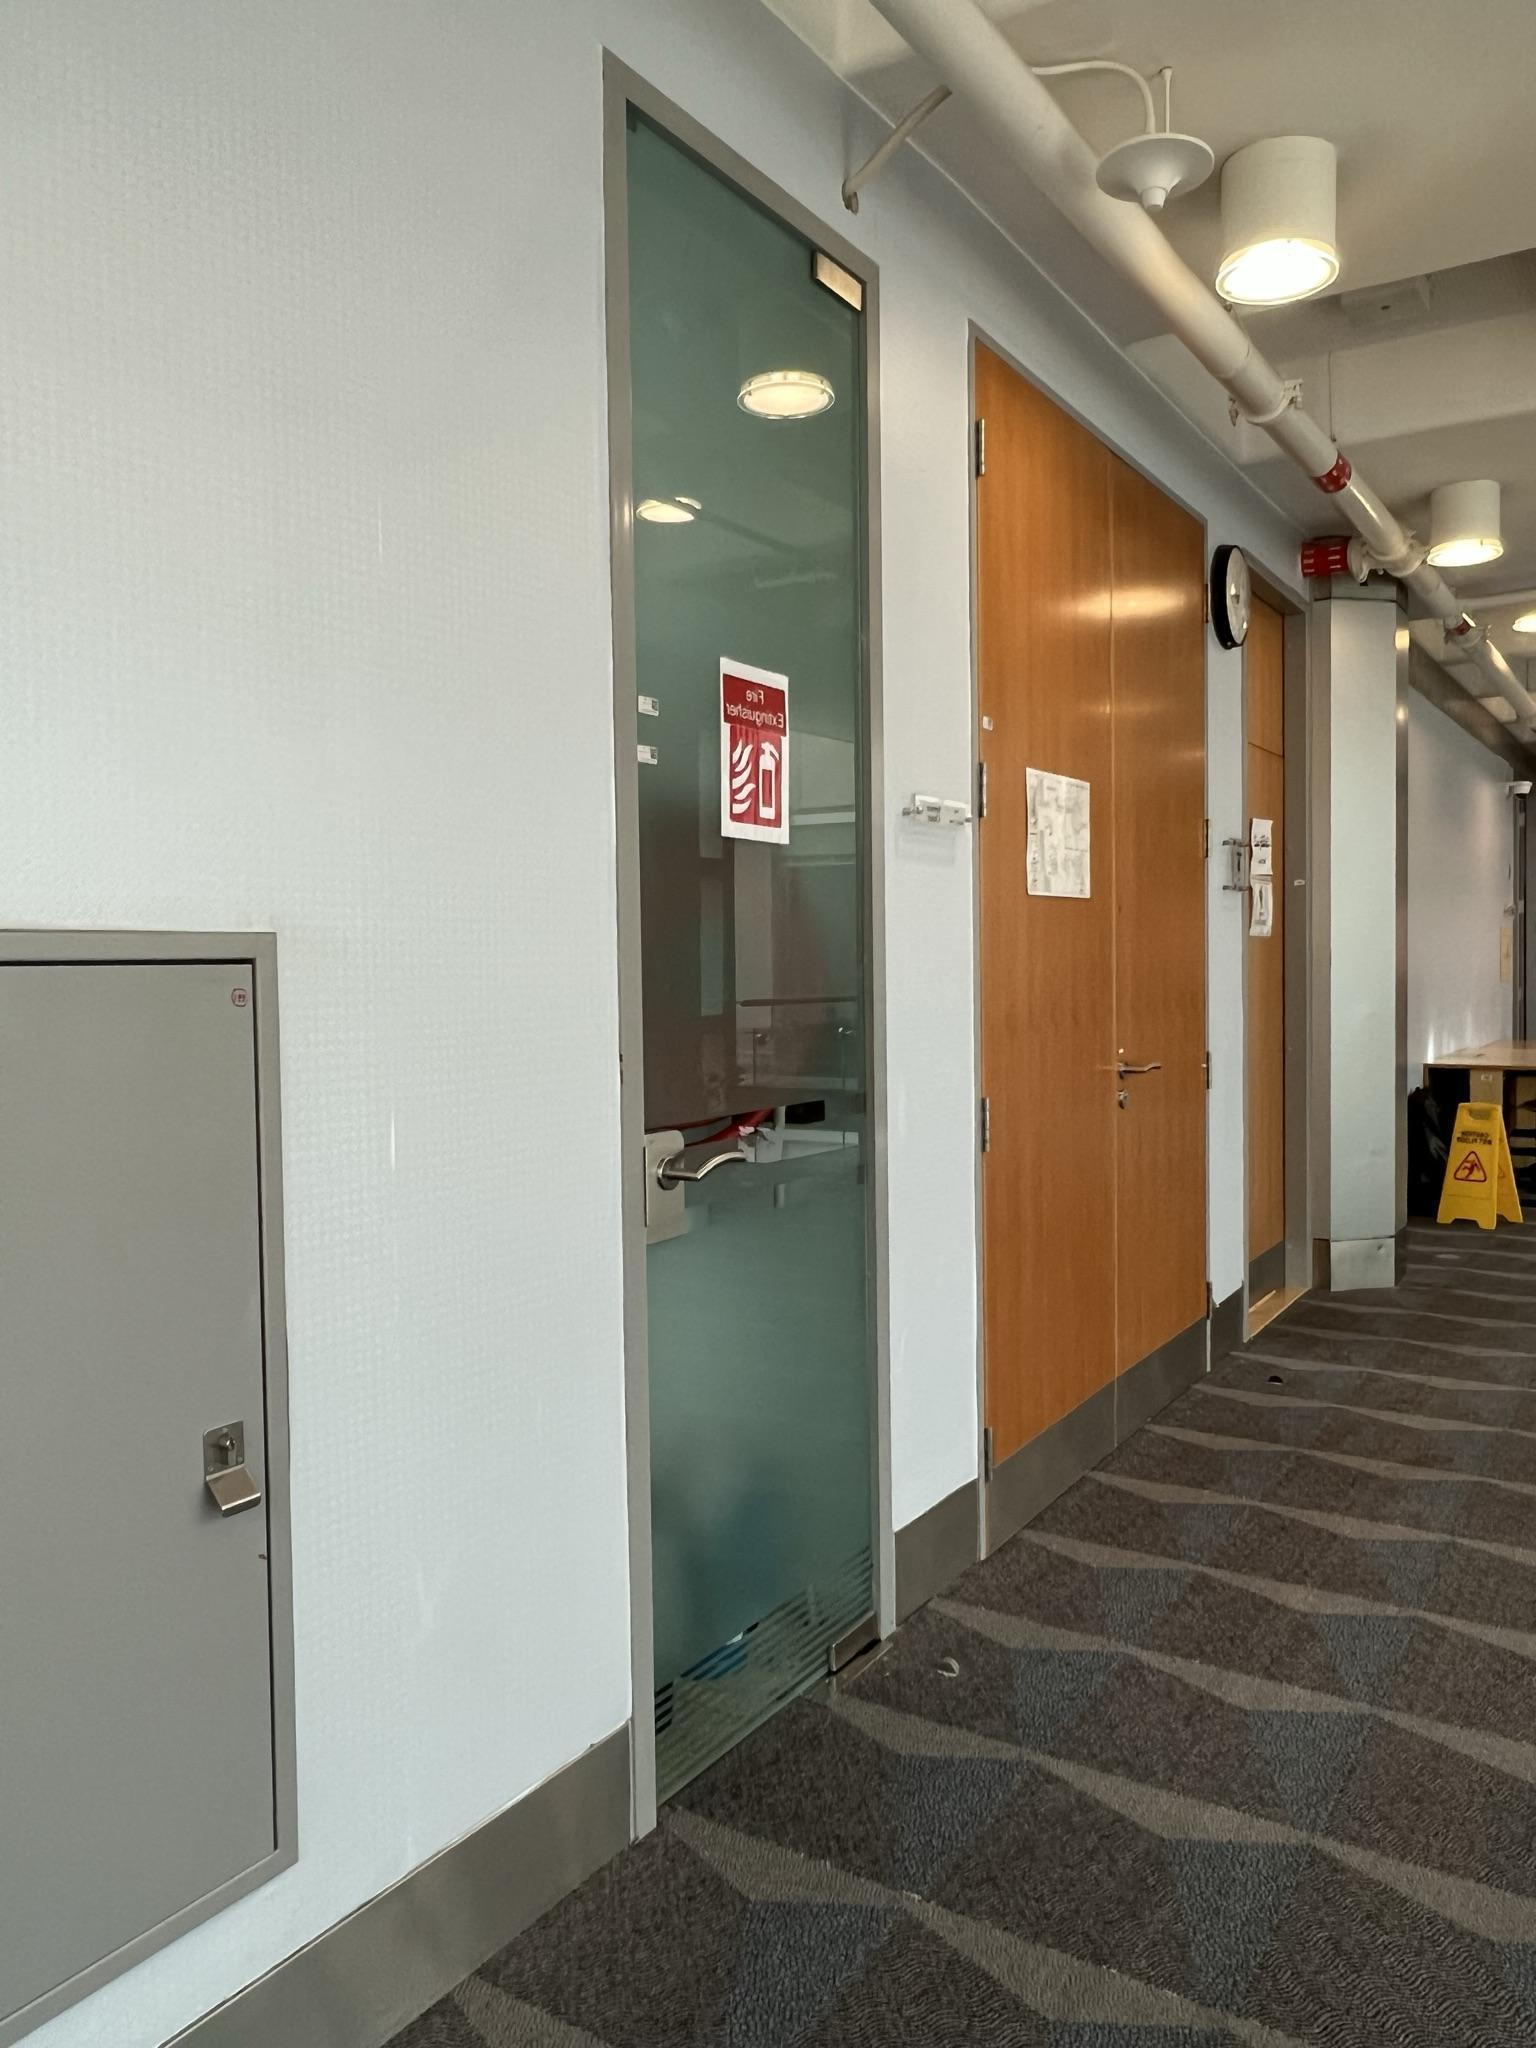door: (628, 240, 865, 1763), (987, 452, 1208, 1506)
handle: (1231, 611, 1304, 1350), (620, 1111, 758, 1258), (1104, 1042, 1175, 1118)
